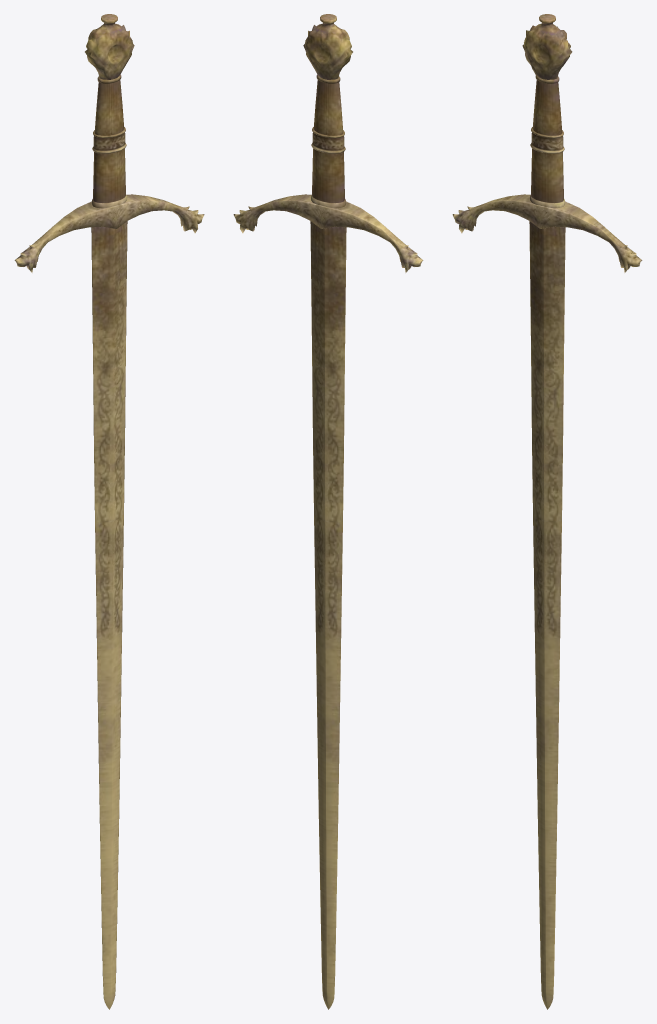
File: weapon-wp_a_0211.glb
3 views of the same model, side by side, from view 1: azimuth 30°, elevation 25°; view 2: azimuth 150°, elevation 25°; view 3: azimuth 330°, elevation 25° (orthographic).
Visible parts, largest first — view 1: wp_a_0211_mesh; view 2: wp_a_0211_mesh; view 3: wp_a_0211_mesh.
Boxes of the visible parts, x1=… form: wp_a_0211_mesh: x1=14, y1=14, x2=204, y2=1009; wp_a_0211_mesh: x1=233, y1=14, x2=423, y2=1009; wp_a_0211_mesh: x1=452, y1=14, x2=642, y2=1009.
Bounding box in the file's own units: 0.2331 × 1.16 × 0.0311.
1 material, 1 textured.
